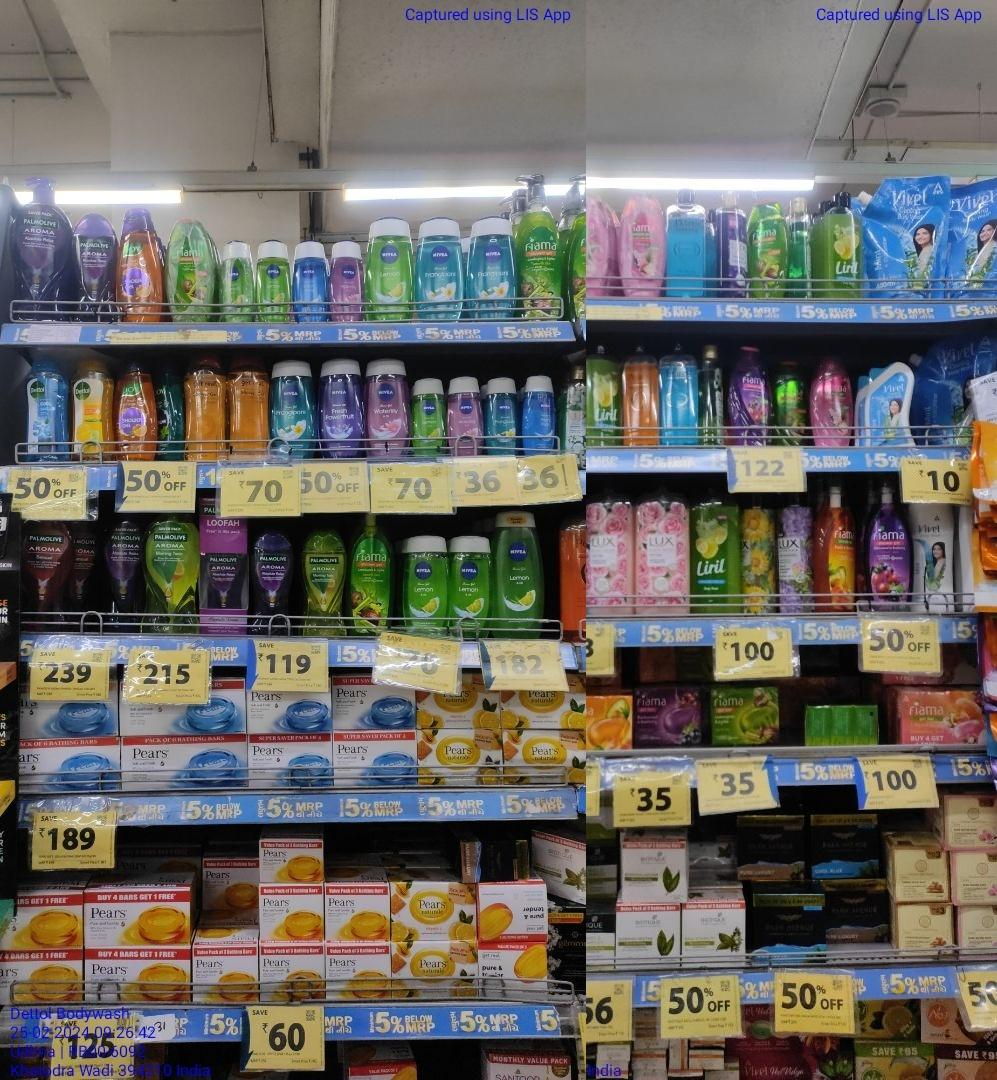Dettol_Bodywash_Cool: (25, 357, 67, 461)
Dettol_Bodywash_Refresh: (75, 357, 115, 458)
Get_Real_Shower_Gel_Moisturising_Glycerin_300ML: (184, 354, 228, 461), (231, 358, 270, 460)
Joy_Shower_Gel_Mandarin_and_Lemongrass_250ML: (118, 209, 162, 320), (117, 357, 156, 460)
Nivea_Shower_Gel_Frangipani_and_Oil_250ML: (417, 217, 464, 323), (471, 216, 516, 321), (273, 361, 316, 457)
Nivea_Shower_Gel_Fresh_Powerfruit_250ML: (320, 359, 363, 456)
Nivea_Shower_Gel_Lemon_and_Oil_250ML: (496, 511, 541, 635), (367, 220, 414, 320), (406, 535, 450, 633), (453, 535, 492, 637)
Nivea_Shower_Gel_Waterlily_and_Oil_250ML: (367, 361, 409, 457)
Palmolive_Aroma_Morning_Tonic_Shower_Gel_250ML: (304, 534, 348, 637)
Palmolive_Aroma_Relax_250ML: (73, 215, 116, 318), (253, 531, 294, 636)
